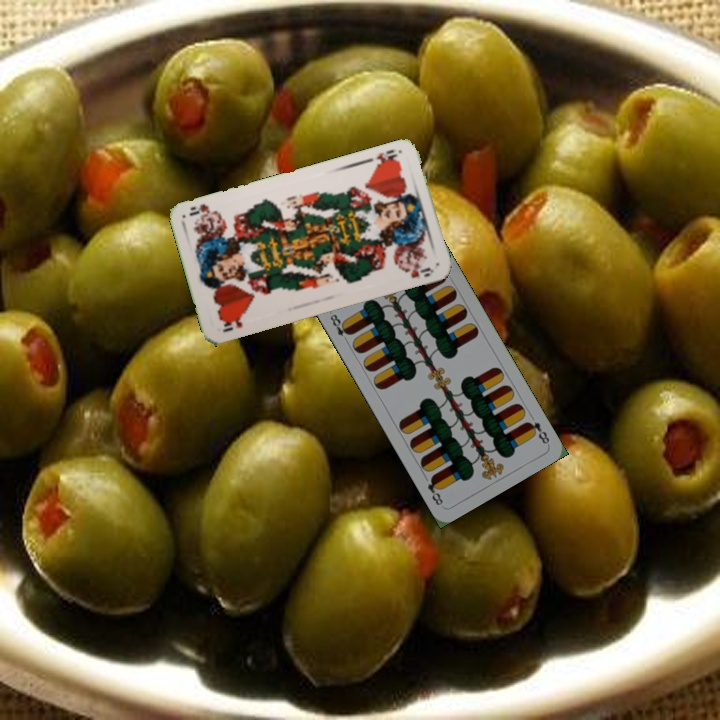E8: (326, 308, 353, 346), (522, 417, 552, 447)
HO: (364, 145, 402, 170), (218, 314, 245, 335)
